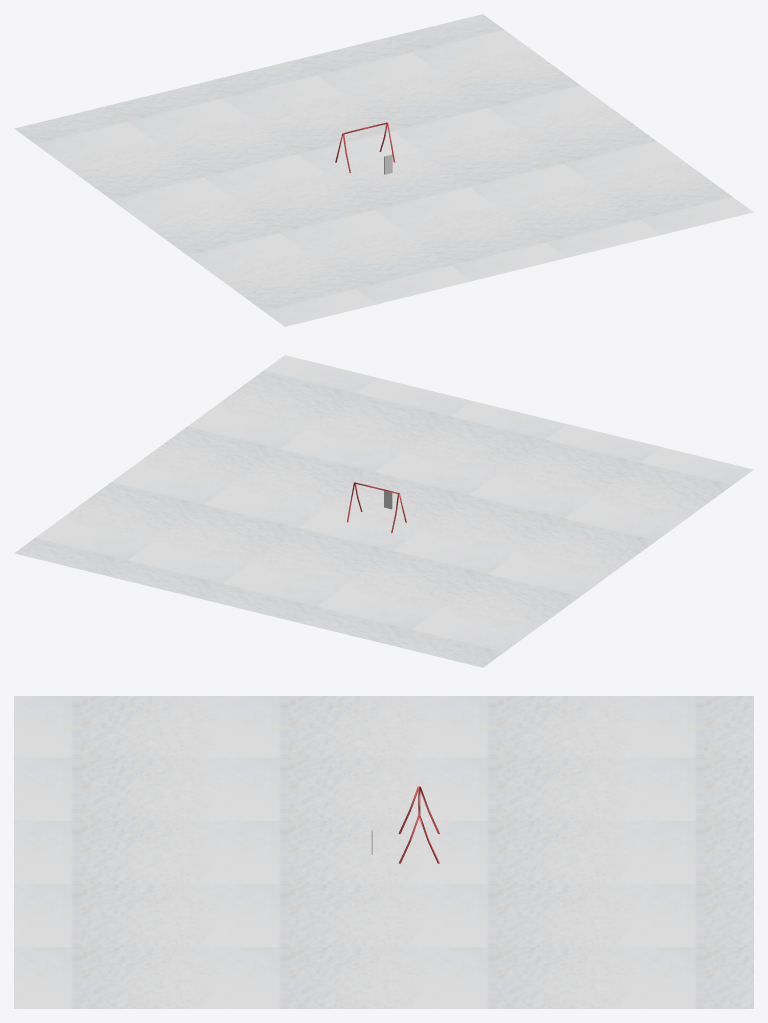
Rendered from snowy_swing.glb.
3 renders of one model, top to bottom at view 1: azimuth 30°, elevation 25°; view 2: azimuth 150°, elevation 25°; view 3: azimuth 270°, elevation 25°, orthographic. The views are drawn at different scales.
Parts seen in each view (by area): view 1: snow; view 2: snow; view 3: snow, swing.
Part boxes in pixels (x1,y1,x2,y2): snow: [14, 14, 753, 326]; snow: [14, 355, 753, 667]; snow: [14, 696, 753, 1008]; swing: [398, 786, 439, 863].
Size of the model in its own units: 59.4 by 4.24 by 59.4.
Materials: 3 (1 with a texture image).
